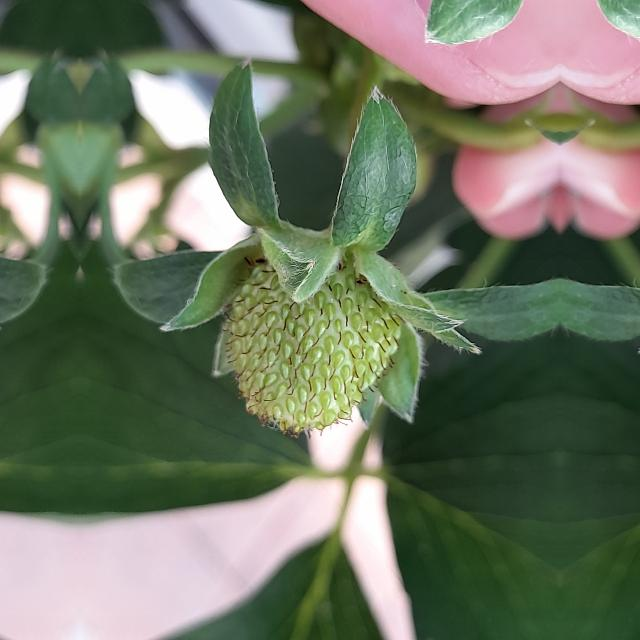Health_25: (220, 247, 406, 438)
